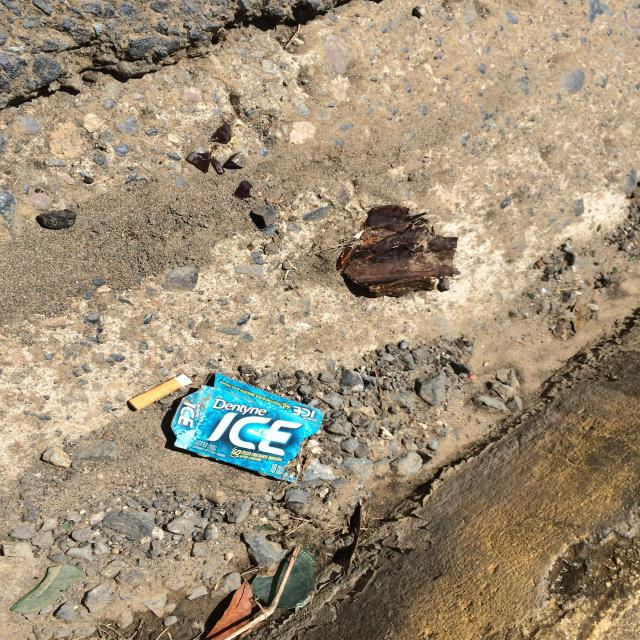litter: (496, 237, 640, 356), (497, 334, 548, 388)
